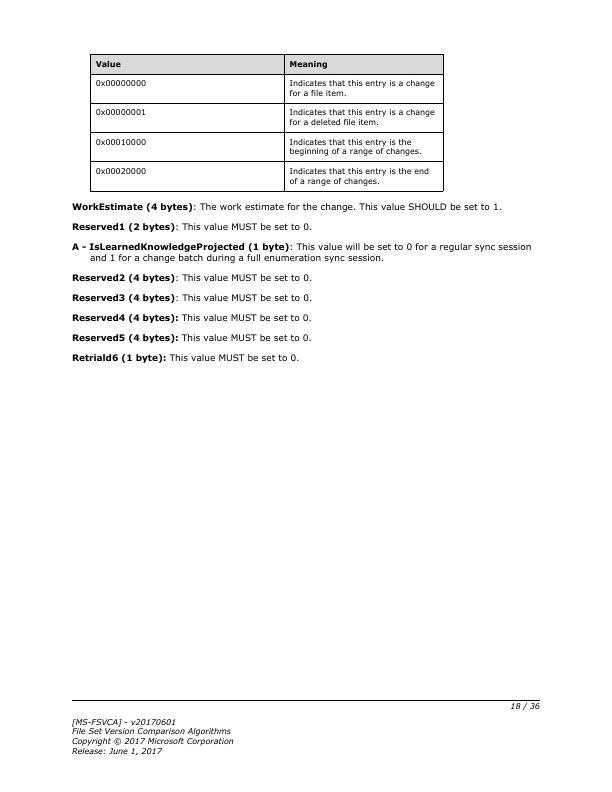table: (90, 54, 446, 194)
text: (69, 241, 535, 265), (68, 713, 240, 760), (70, 200, 505, 215), (69, 291, 318, 306), (68, 271, 314, 286), (68, 350, 303, 365), (70, 311, 313, 325), (70, 332, 314, 345), (69, 220, 315, 232)
